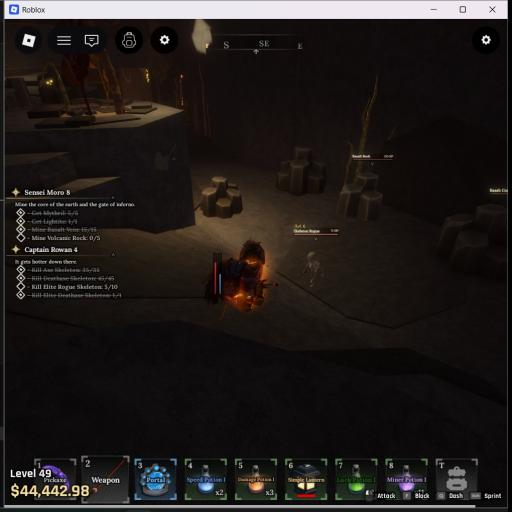player: (222, 239, 268, 311), (205, 278, 217, 303)
rock: (435, 204, 508, 279), (276, 146, 326, 195), (336, 172, 382, 221), (200, 177, 242, 218), (5, 77, 33, 111)
